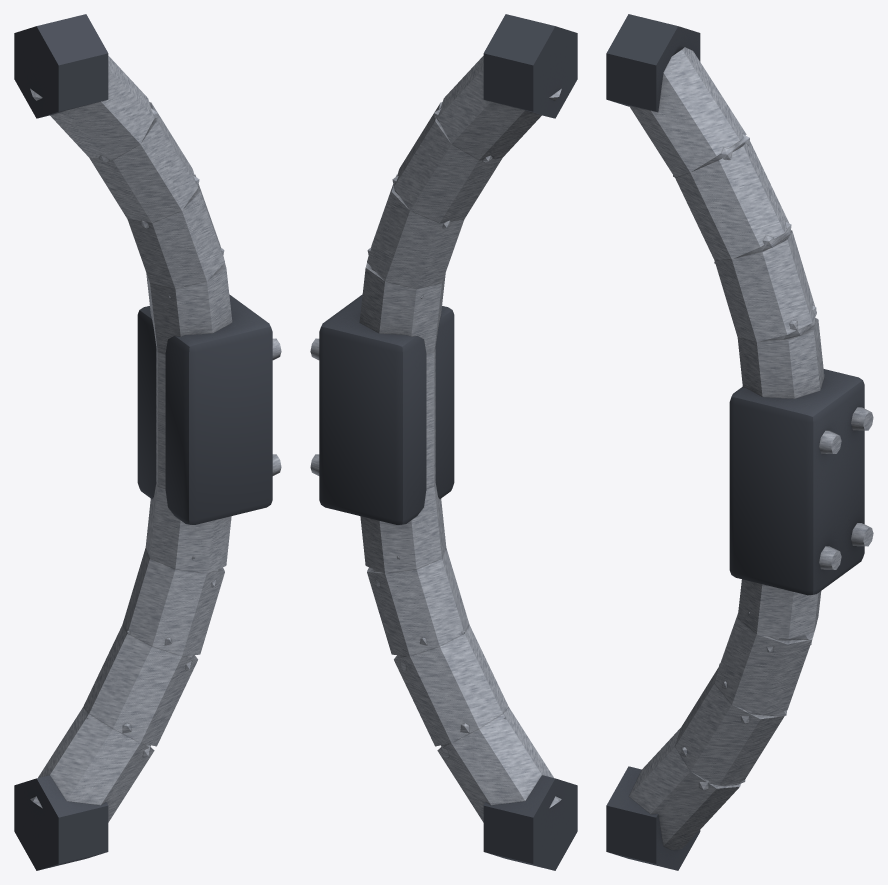
The model's file is Iron Bow.fbx.
The picture shows the model from 3 angles, left to right: view 1: azimuth 30°, elevation 25°; view 2: azimuth 150°, elevation 25°; view 3: azimuth 330°, elevation 25°; orthographic projection.
Parts seen in each view (by area): view 1: Iron Bow; view 2: Iron Bow; view 3: Iron Bow.
Part boxes in pixels (left/top/right/bottom): Iron Bow: left=14, top=14, right=281, bottom=870; Iron Bow: left=310, top=14, right=577, bottom=870; Iron Bow: left=606, top=14, right=873, bottom=870.
Size of the model in its own units: 4.12 by 14.6 by 1.7.
Materials: 1 (1 with a texture image).
